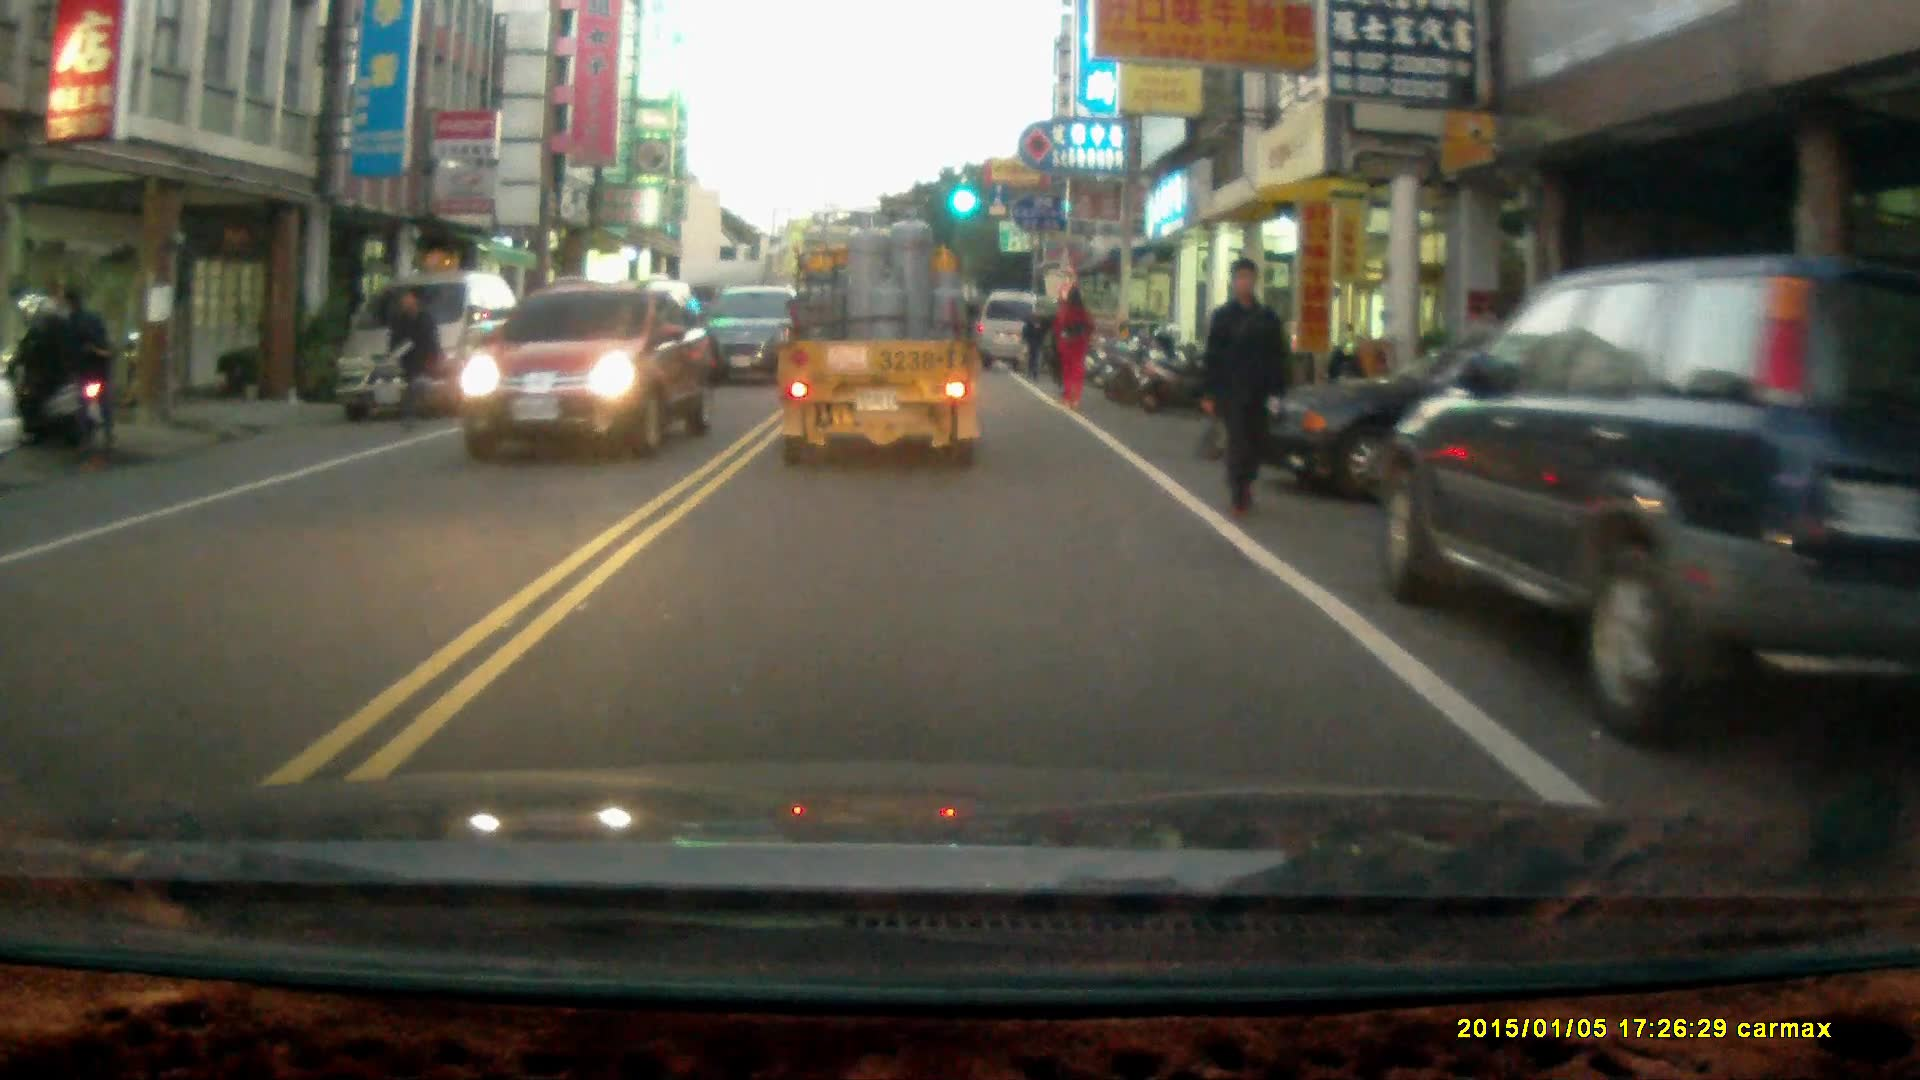pedestrian: (1200, 253, 1290, 521), (55, 279, 124, 457), (385, 286, 439, 431), (1051, 277, 1092, 405), (1018, 300, 1050, 379)
rider: (7, 289, 104, 453)
vehicle: (1373, 247, 1915, 770), (775, 206, 984, 475), (453, 275, 722, 455), (698, 280, 802, 388), (984, 283, 1060, 369)
